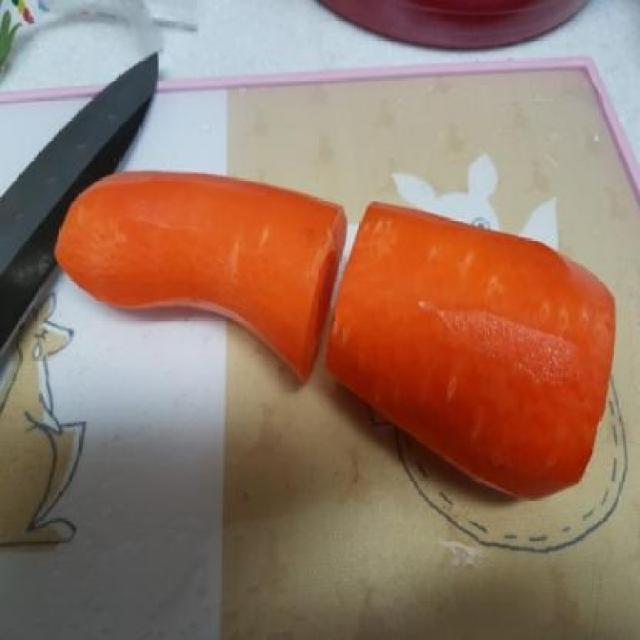Carrot: (328, 202, 612, 497), (55, 171, 346, 379)
